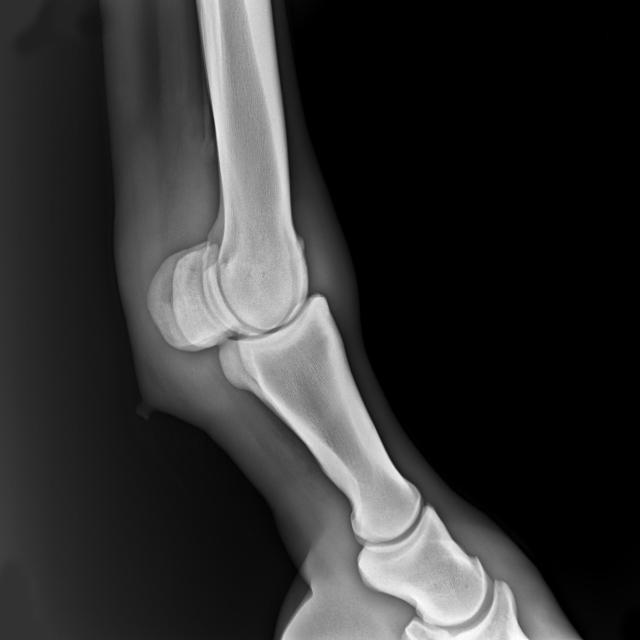joint-ht8A: (124, 191, 387, 440)
